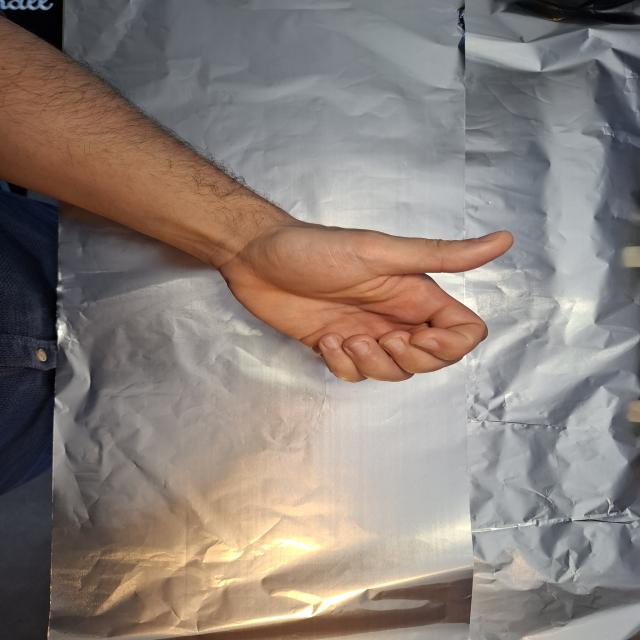glove_off: (201, 204, 518, 386)
